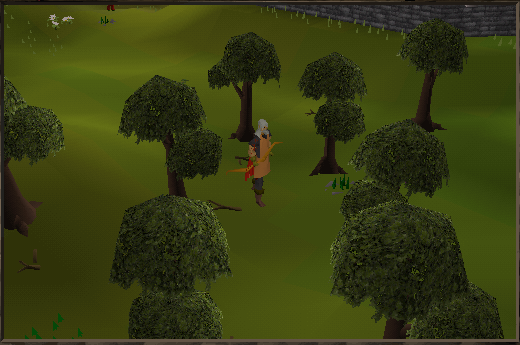Tree: (117, 71, 213, 197), (0, 74, 72, 229), (296, 51, 362, 175), (207, 30, 280, 137), (396, 17, 470, 117)
